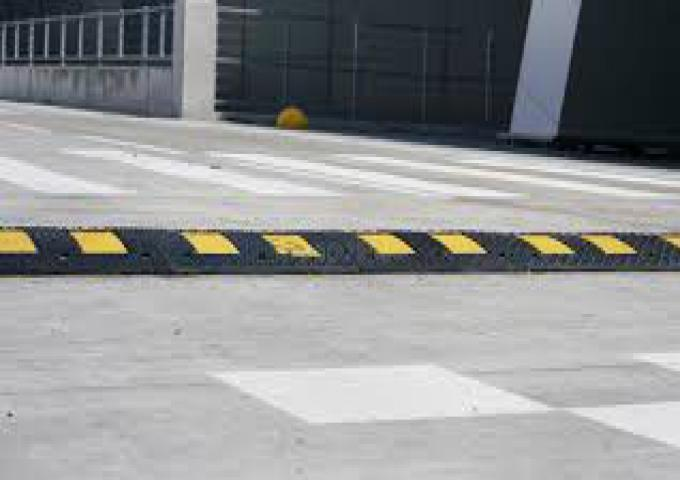speedbreaker: (1, 216, 677, 288)
